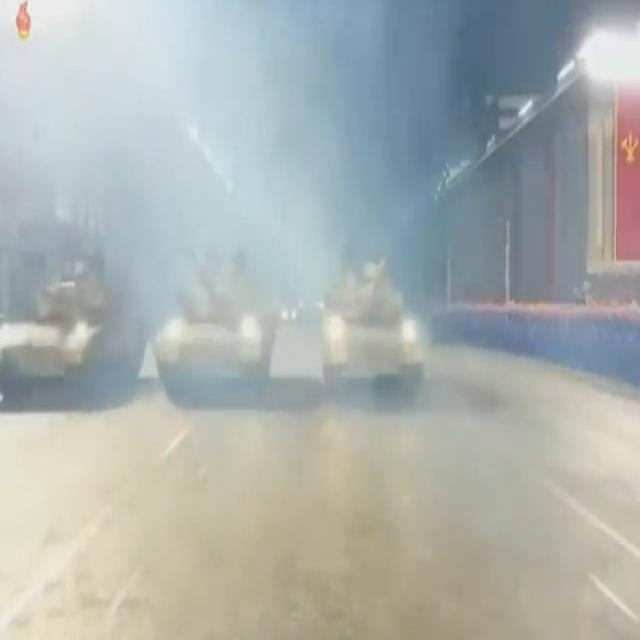north tank: (144, 236, 286, 422), (314, 246, 445, 422)
